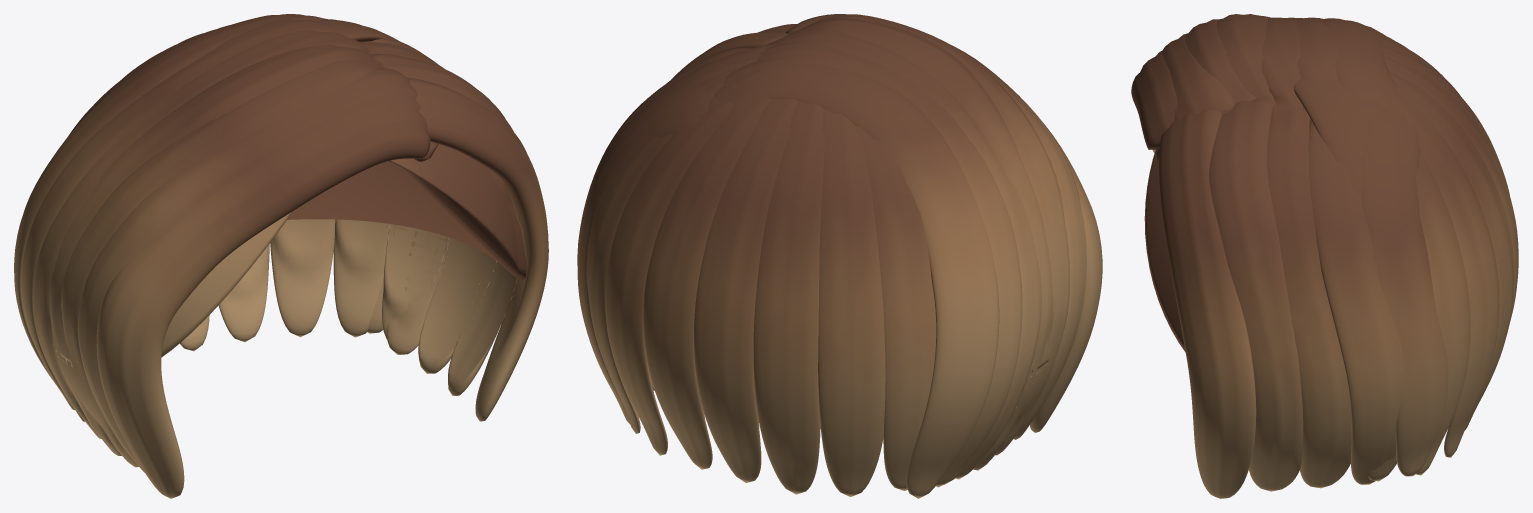
File: Ombre-4ac4386bfc68253-hair.glb
The picture shows the model from 3 angles, left to right: view 1: azimuth 30°, elevation 25°; view 2: azimuth 150°, elevation 25°; view 3: azimuth 270°, elevation 25°; orthographic projection. The views are drawn at different scales.
Parts seen in each view (by area): view 1: 226 hair / Hair / sculpted 0.001, 226 hair / Hair / sculpted 1.001, 226 hair / Hair / sculpted 2.001, 226 hair / Hair / sculpted 1.002; view 2: 226 hair / Hair / sculpted 0.001, 226 hair / Hair / sculpted 2.001, 226 hair / Hair / sculpted 1.001; view 3: 226 hair / Hair / sculpted 1.001, 226 hair / Hair / sculpted 2.001, 226 hair / Hair / sculpted 0.001, 226 hair / Hair / sculpted 1.002.
Part boxes in pixels (<box>): 226 hair / Hair / sculpted 0.001: <box>14,14,496,498</box>; 226 hair / Hair / sculpted 1.001: <box>32,20,548,472</box>; 226 hair / Hair / sculpted 2.001: <box>21,18,517,467</box>; 226 hair / Hair / sculpted 1.002: <box>53,144,526,366</box>; 226 hair / Hair / sculpted 0.001: <box>605,18,1102,498</box>; 226 hair / Hair / sculpted 2.001: <box>577,14,1070,490</box>; 226 hair / Hair / sculpted 1.001: <box>577,14,1086,496</box>; 226 hair / Hair / sculpted 1.001: <box>1159,17,1514,498</box>; 226 hair / Hair / sculpted 2.001: <box>1183,17,1518,491</box>; 226 hair / Hair / sculpted 0.001: <box>1131,14,1509,488</box>; 226 hair / Hair / sculpted 1.002: <box>1144,106,1302,352</box>.
Size of the model in its own units: 1 by 0.8416 by 0.7666.
4 materials, 4 textured.
